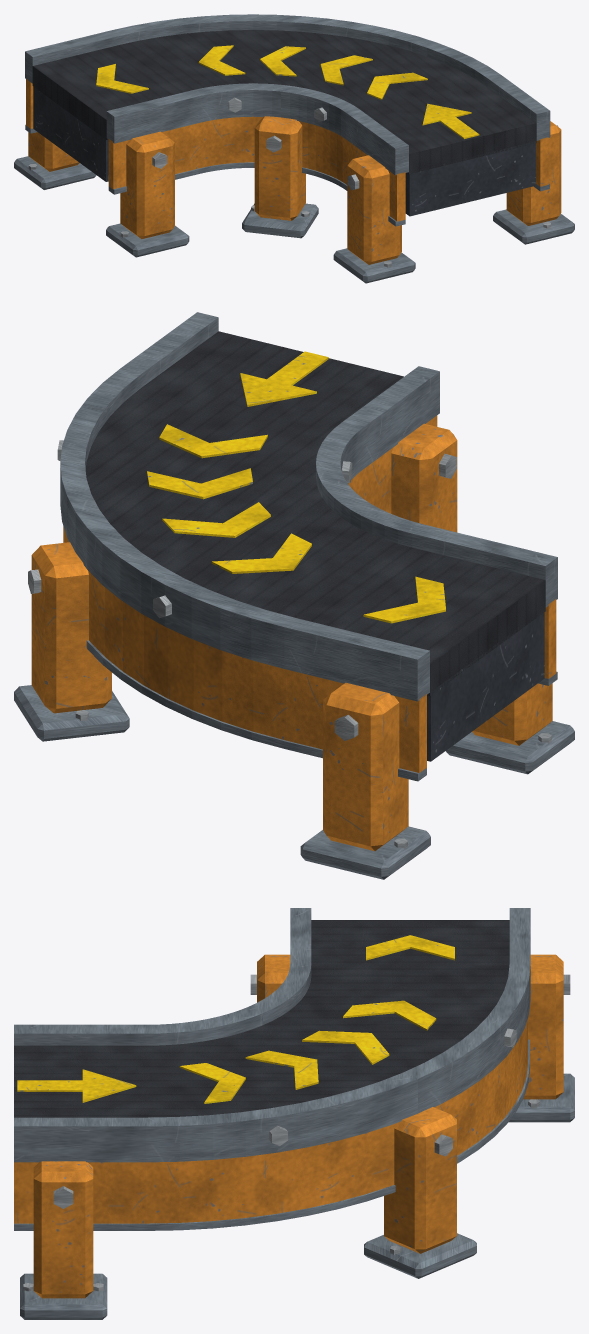
The model's file is conveyor_curve_left.fbx.
The picture shows the model from 3 angles, top to bottom: view 1: azimuth 30°, elevation 25°; view 2: azimuth 150°, elevation 25°; view 3: azimuth 270°, elevation 25°; orthographic projection. The views are drawn at different scales.
Parts seen in each view (by area): view 1: ConveyorCurveLeft_Belt, ConveyorCurveLeft_SteelGrey, ConveyorCurveLeft_Orange, ConveyorCurveLeft_DarkGrey, ConveyorCurveLeft_Yellow, ConveyorCurveLeft_SteelLight; view 2: ConveyorCurveLeft_Belt, ConveyorCurveLeft_SteelGrey, ConveyorCurveLeft_Orange, ConveyorCurveLeft_Yellow, ConveyorCurveLeft_DarkGrey, ConveyorCurveLeft_SteelLight; view 3: ConveyorCurveLeft_Orange, ConveyorCurveLeft_SteelGrey, ConveyorCurveLeft_Belt, ConveyorCurveLeft_Yellow, ConveyorCurveLeft_SteelLight.
Boxes of the visible parts, x1,y1,x2,y2 form: ConveyorCurveLeft_Belt: (32, 30, 536, 174); ConveyorCurveLeft_SteelGrey: (14, 14, 574, 283); ConveyorCurveLeft_Orange: (26, 79, 561, 264); ConveyorCurveLeft_DarkGrey: (33, 86, 535, 216); ConveyorCurveLeft_Yellow: (96, 45, 479, 138); ConveyorCurveLeft_SteelLight: (28, 97, 558, 267); ConveyorCurveLeft_Belt: (85, 331, 545, 695); ConveyorCurveLeft_SteelGrey: (14, 312, 574, 879); ConveyorCurveLeft_Orange: (31, 415, 556, 851); ConveyorCurveLeft_Yellow: (147, 351, 445, 623); ConveyorCurveLeft_DarkGrey: (427, 612, 544, 761); ConveyorCurveLeft_SteelLight: (28, 440, 551, 848); ConveyorCurveLeft_Orange: (14, 954, 563, 1298); ConveyorCurveLeft_SteelGrey: (14, 908, 574, 1319); ConveyorCurveLeft_Belt: (14, 920, 509, 1117); ConveyorCurveLeft_Yellow: (17, 935, 454, 1103); ConveyorCurveLeft_SteelLight: (23, 974, 570, 1291).
Size of the model in its own units: 8.49 by 2.95 by 8.49.
6 materials, 6 textured.
